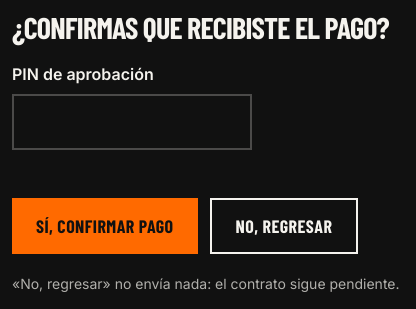
ConfirmTransferForm (RF-11) › no envía la confirmación sin un PIN válido
This screenshot has width=416, height=309.
Click the button "Sí, confirmar pago": (105, 226) x1=12 y1=198 x2=198 y2=254
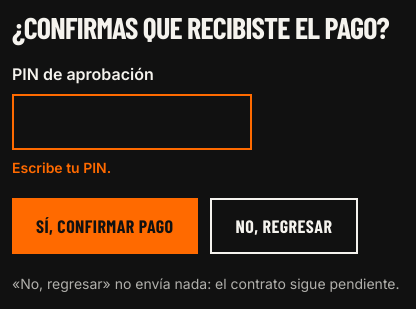
Result: the message reads "Escribe tu PIN." at x1=12 y1=159 x2=111 y2=176
